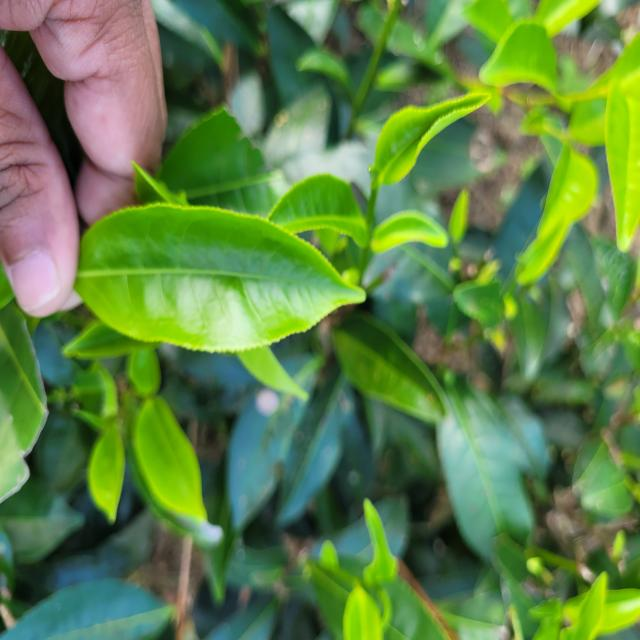Category B(2-4 days): (48, 183, 380, 366)
